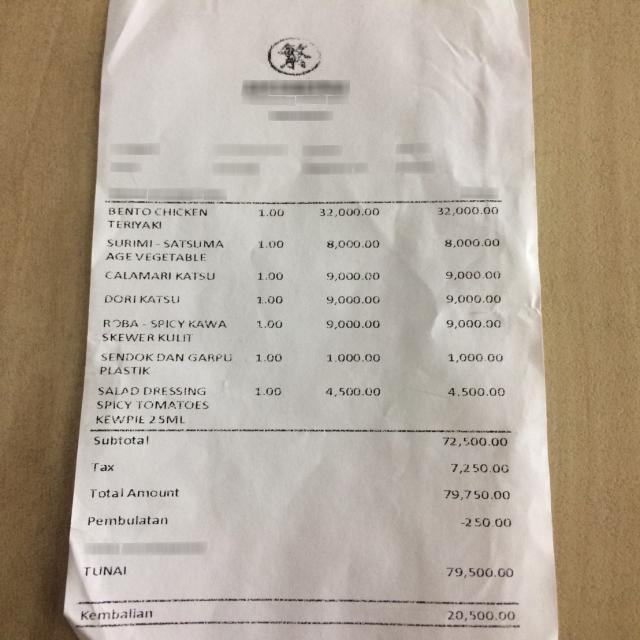kertas: (65, 0, 559, 640)
